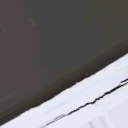crackTip: (3, 73, 128, 126)
